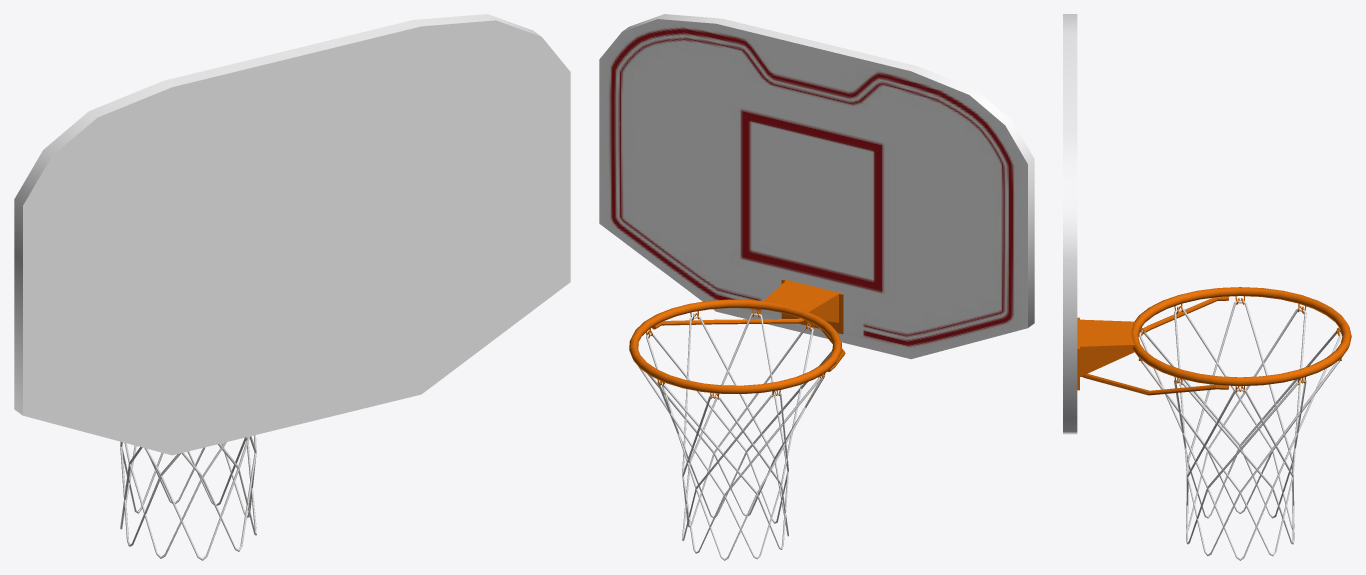
The model's file is basketball_net_and_board.fbx.
3 renders of one model, left to right at view 1: azimuth 30°, elevation 25°; view 2: azimuth 150°, elevation 25°; view 3: azimuth 270°, elevation 25°, orthographic. The views are drawn at different scales.
Visible parts, largest first — view 1: panel, net; view 2: panel, net, hitches, support; view 3: net, panel, hitches, support.
Boxes of the visible parts, x1,y1,x2,y2 form: panel: (14, 14, 570, 455); net: (120, 435, 256, 560); panel: (599, 14, 1034, 359); net: (637, 313, 832, 560); hitches: (629, 299, 841, 393); support: (652, 279, 845, 371); net: (1139, 301, 1341, 560); panel: (1063, 14, 1077, 434); hitches: (1131, 287, 1351, 386); support: (1077, 296, 1228, 395).
Bounding box in the file's own units: 1.09 × 1.06 × 0.6086.
Materials: 3 (1 with a texture image).
